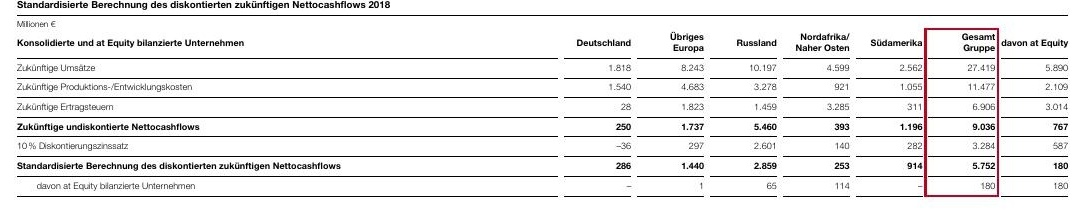table: (0, 0, 1086, 211)
